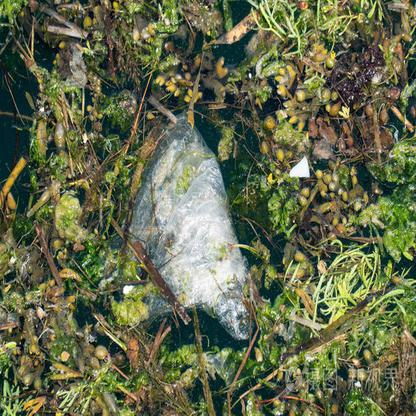plastic bag: (101, 115, 261, 340)
